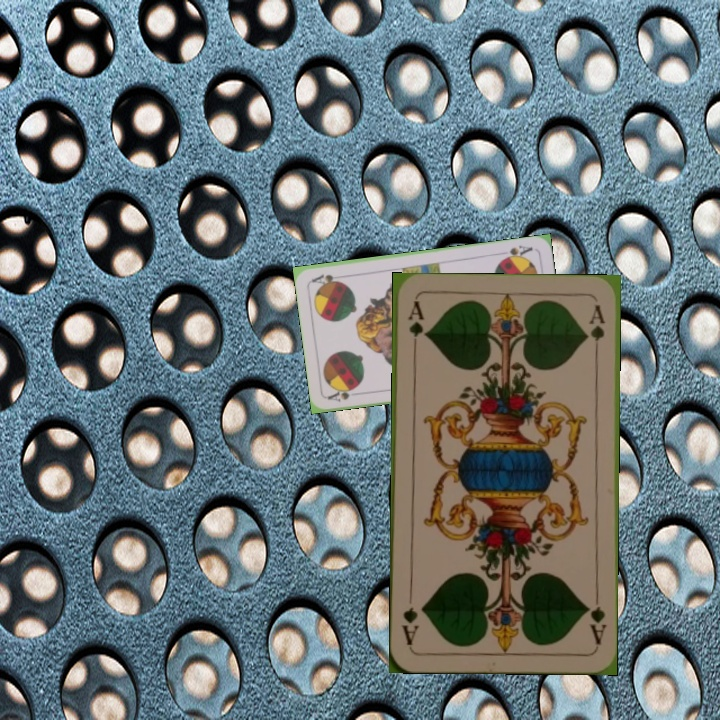GA: (582, 589, 609, 647), (404, 298, 426, 357)
SA: (324, 384, 365, 405), (496, 241, 535, 263)
